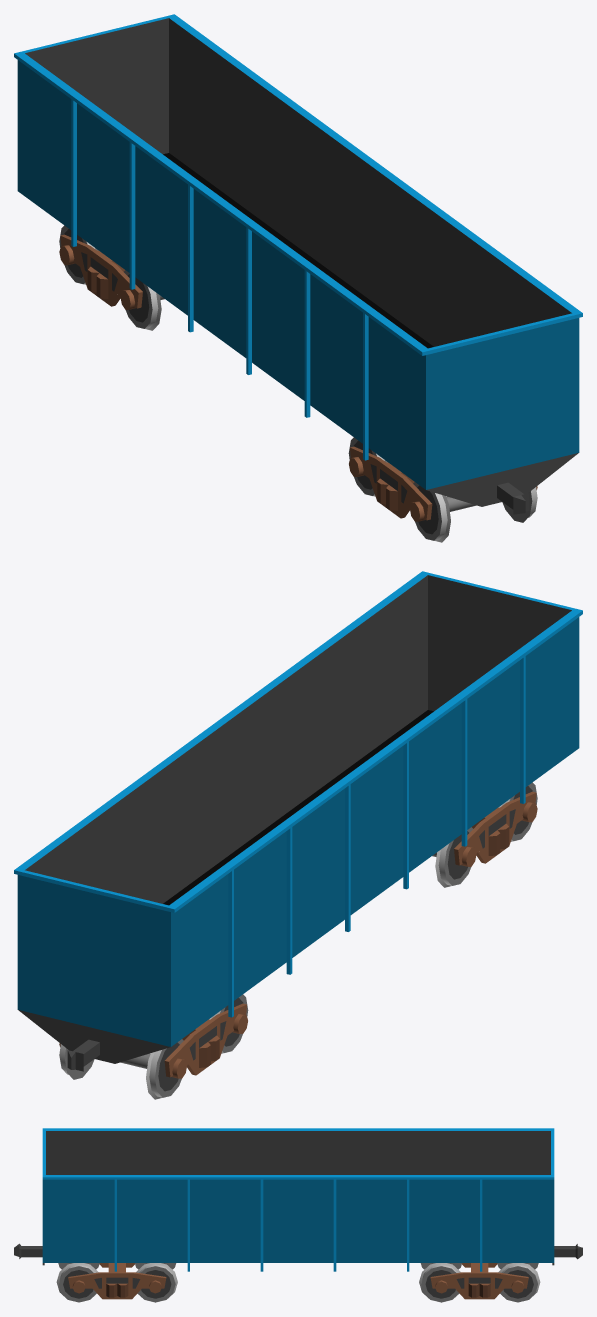
The model's file is opentop_12-532_Blue.glb.
The picture shows the model from 3 angles, top to bottom: view 1: azimuth 30°, elevation 25°; view 2: azimuth 150°, elevation 25°; view 3: azimuth 270°, elevation 25°; orthographic projection. The views are drawn at different scales.
Parts seen in each view (by area): view 1: opentop_12-532_Blue; view 2: opentop_12-532_Blue; view 3: opentop_12-532_Blue.
Part boxes in pixels (left/top/right/bottom): opentop_12-532_Blue: left=14, top=14, right=582, bottom=542; opentop_12-532_Blue: left=14, top=571, right=582, bottom=1099; opentop_12-532_Blue: left=14, top=1128, right=582, bottom=1302.
Size of the model in its own units: 2.88 by 3.76 by 14.13.
1 material, 1 textured.
